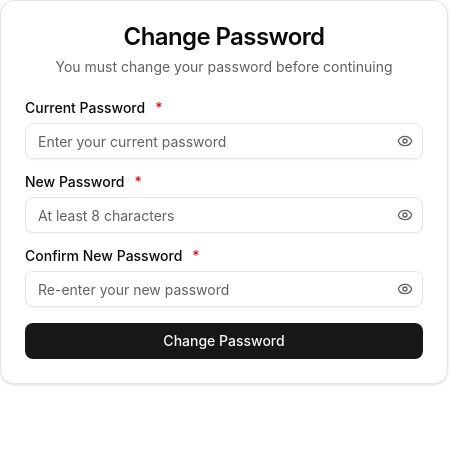
Test: ChangePassword › shows backend error_description when available
Type "OldPass123" into the password field labelled "Current Password *".
click(224, 141); type("OldPass123")  # box 25,123 -> 423,159
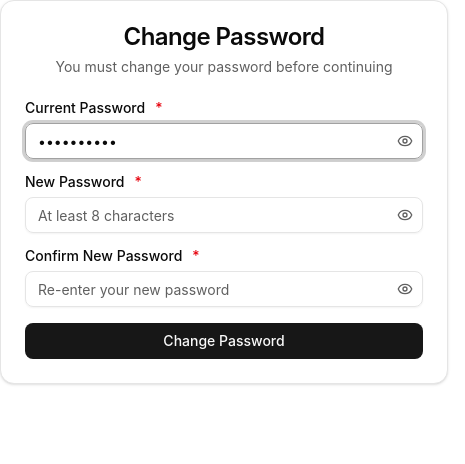
Type "weakpass" into the password field labelled "New Password *".
click(224, 215); type("weakpass")  # box 25,197 -> 423,233
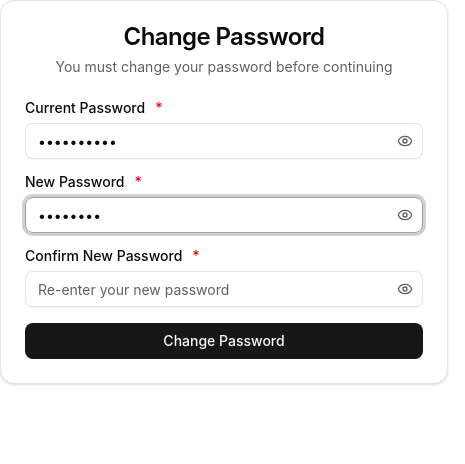
Type "weakpass" into the password field labelled "Confirm New Password *".
click(224, 289); type("weakpass")  # box 25,271 -> 423,307
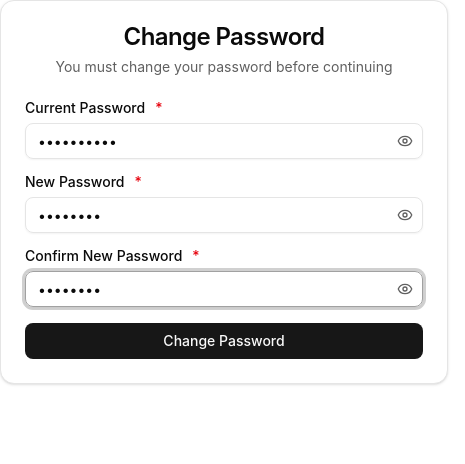
Click the button "Change Password".
click(224, 341)  # box 25,323 -> 423,359
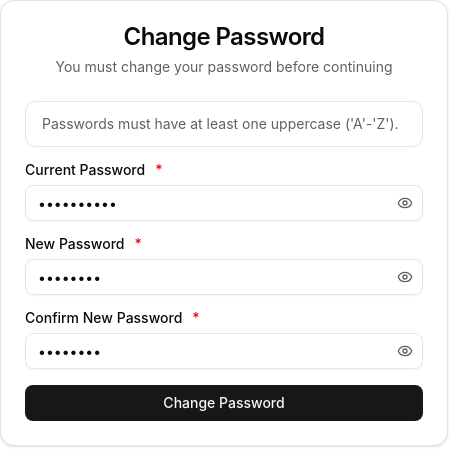
Now the text "Passwords must have at least one uppercase ('A'-'Z')." is shown, box 42,114 -> 406,134
